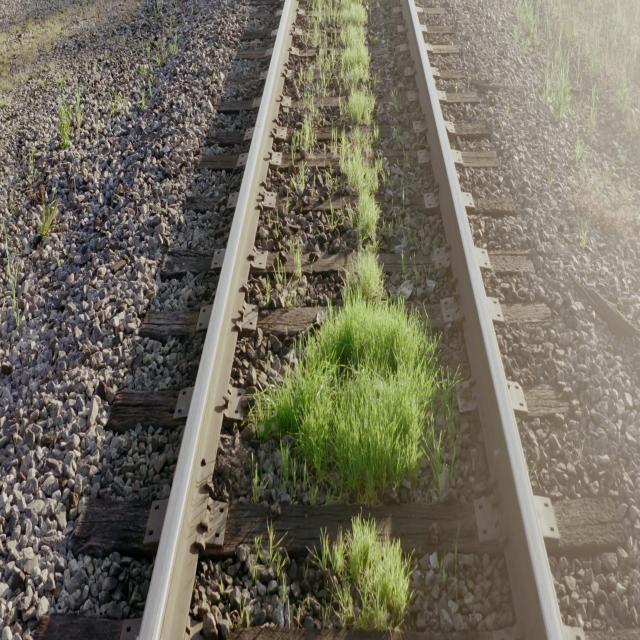Plant: (256, 0, 439, 504), (254, 284, 456, 502), (255, 298, 442, 502), (260, 362, 440, 498), (312, 516, 411, 631), (299, 0, 342, 120), (344, 249, 384, 302), (266, 522, 286, 578), (272, 440, 290, 498), (290, 236, 302, 280), (300, 116, 314, 151), (252, 467, 258, 500), (255, 536, 264, 558)
